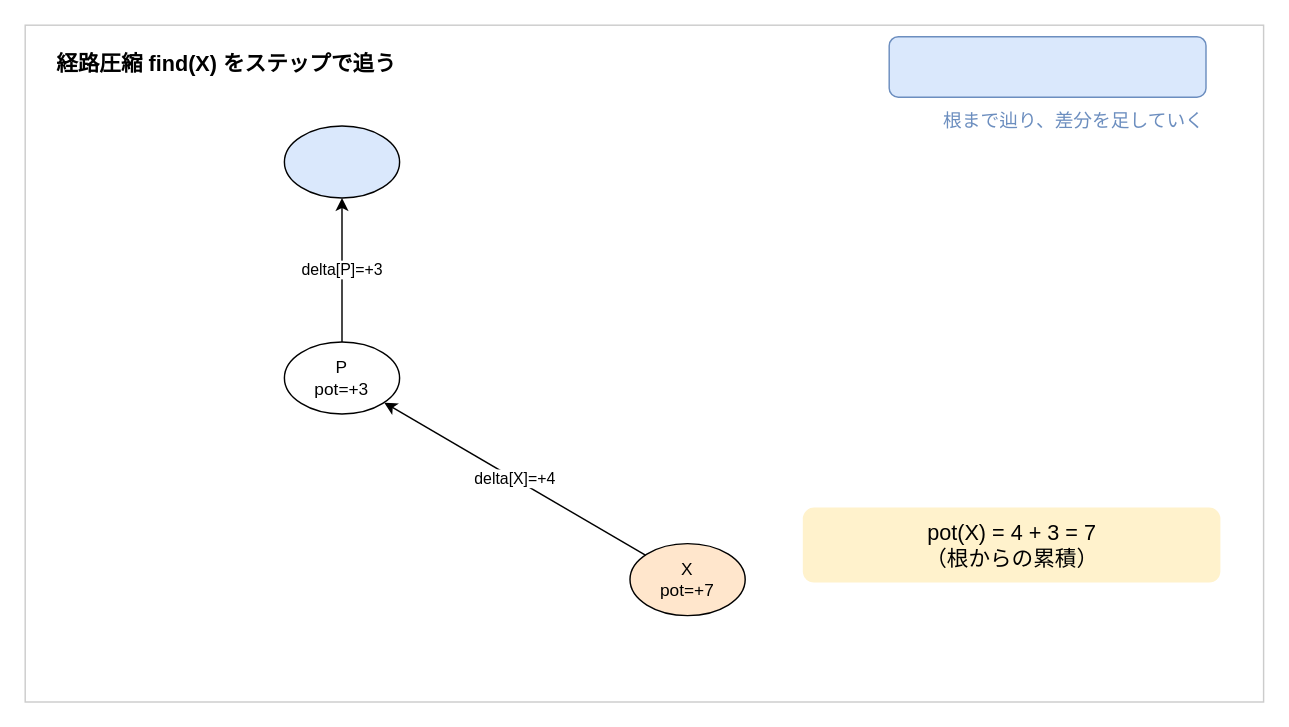
Some shapes in this 1289 by 727 pixel diagram are drawn without their labels. The shapes that lost their labels are listed below. From the top down, each one's box as (x1, y1, x2, y2) in pixels, then its label:
(888, 35, 1206, 97): STEP 2 / 5
(283, 125, 400, 198): R pot=0
